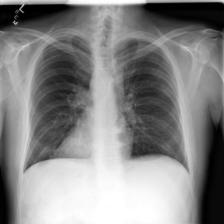normal: (16, 26, 196, 178)
